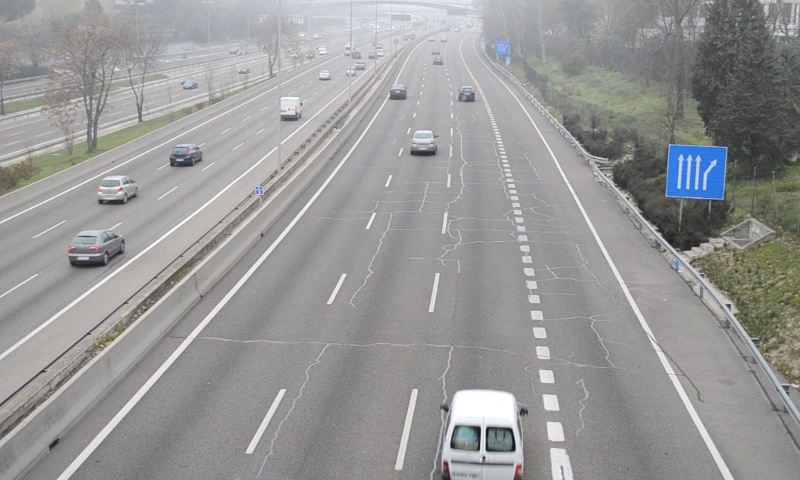car: (410, 129, 437, 154), (390, 83, 408, 100), (458, 85, 475, 101)
van: (442, 389, 523, 480)
